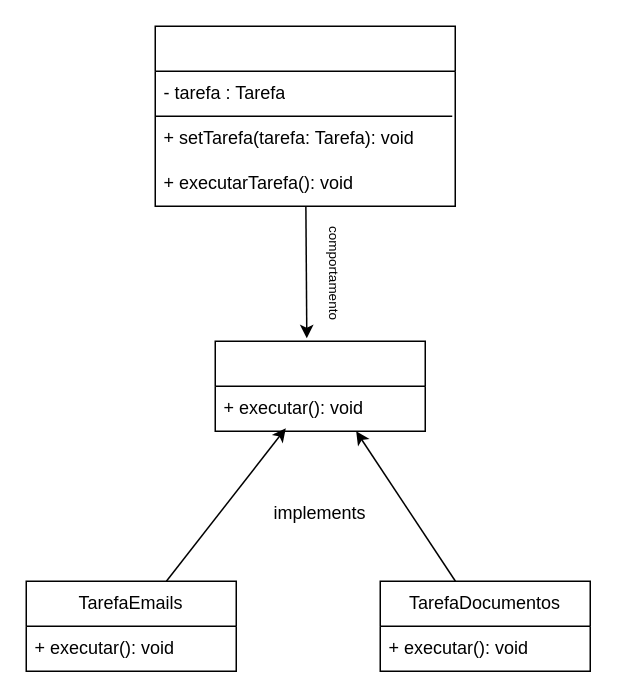
Some shapes in this 617 by 698 pixel diagram are drawn without their labels. Here are the shapes that lost their labels. From the top down, the box of each, then its label:
(154, 25, 455, 206): ExecutorTarefas
(214, 340, 425, 431): <<Interface>> Tarefa
